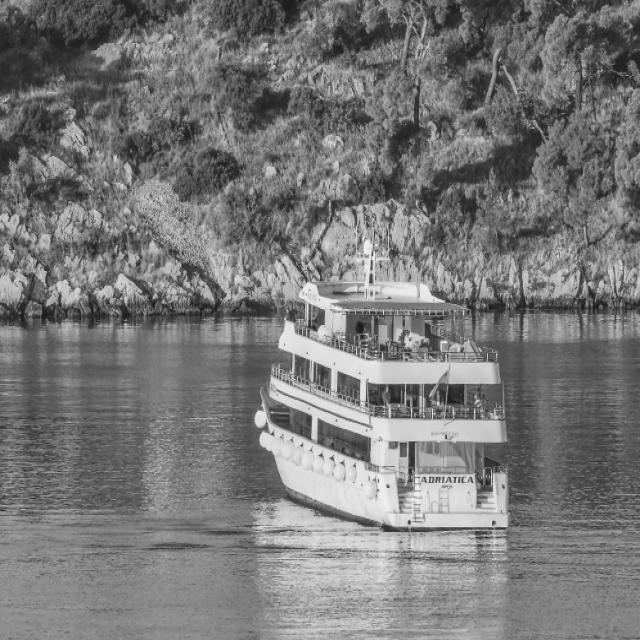cruises: (254, 234, 517, 540)
